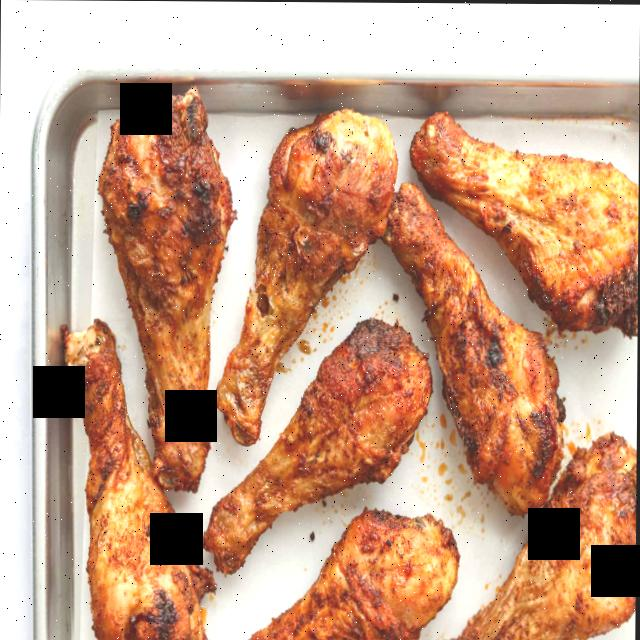Frango: (63, 78, 640, 640)
